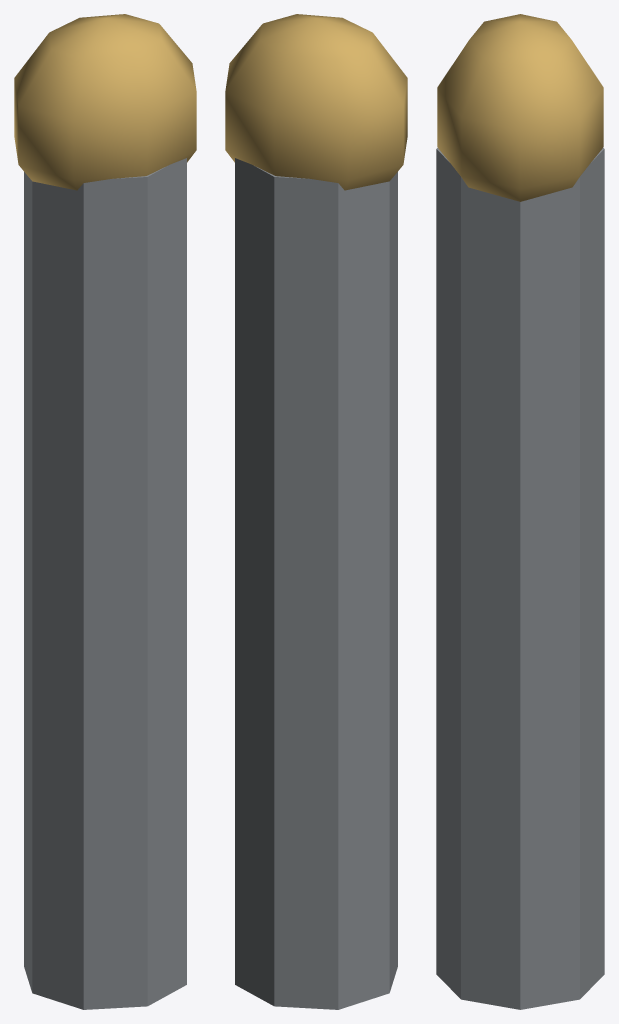
File: poi_pillar_gold.glb
3 views of the same model, side by side, from view 1: azimuth 30°, elevation 25°; view 2: azimuth 150°, elevation 25°; view 3: azimuth 270°, elevation 25° (orthographic).
Visible parts, largest first — view 1: poi_pillar_gold_root; view 2: poi_pillar_gold_root; view 3: poi_pillar_gold_root.
Boxes of the visible parts, x1,y1,x2,y2 form: poi_pillar_gold_root: [14, 14, 196, 1009]; poi_pillar_gold_root: [225, 14, 407, 1009]; poi_pillar_gold_root: [436, 14, 604, 1009].
Size of the model in its own units: 0.4565 by 2.4 by 0.384.
